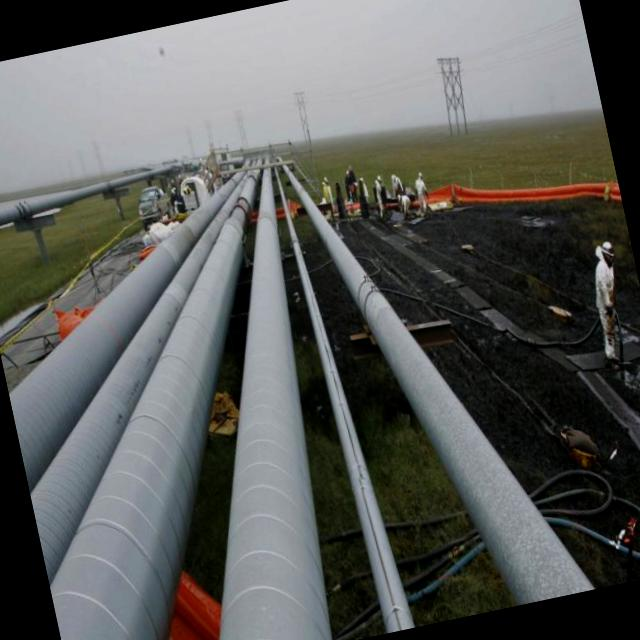gas: (286, 168, 594, 605), (50, 207, 244, 640), (30, 184, 240, 584), (8, 176, 237, 491), (219, 168, 331, 640)
